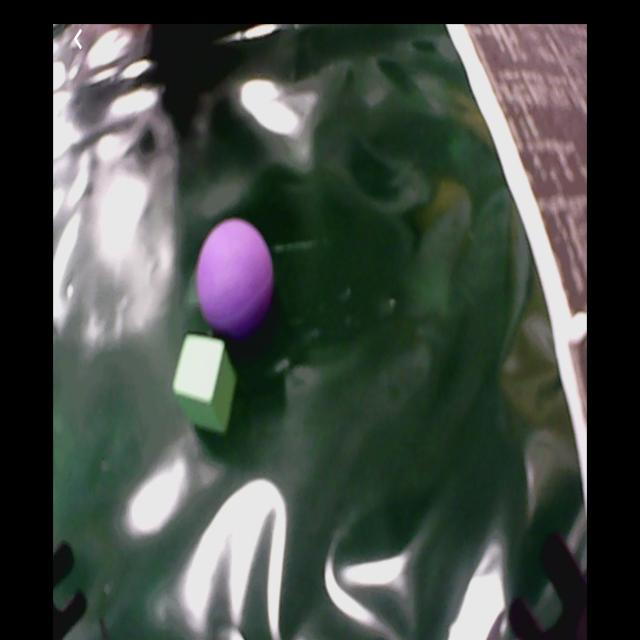ball: (199, 220, 273, 333)
